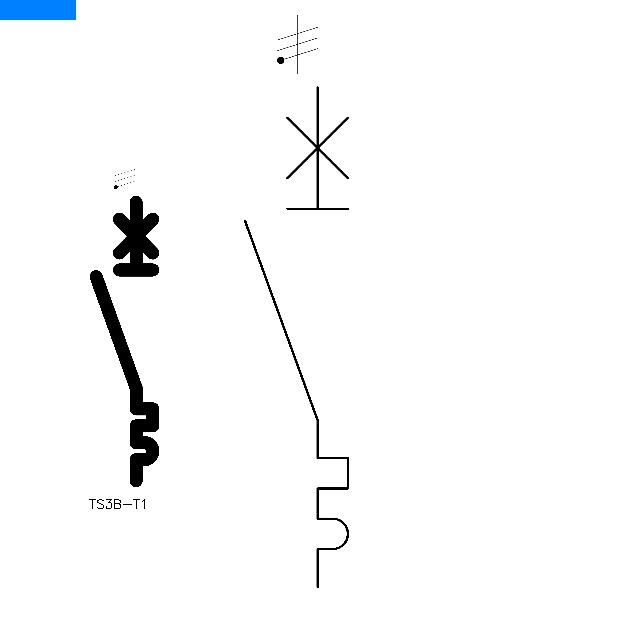interruptor_termomagnetico: (232, 74, 361, 599), (89, 195, 160, 488)
